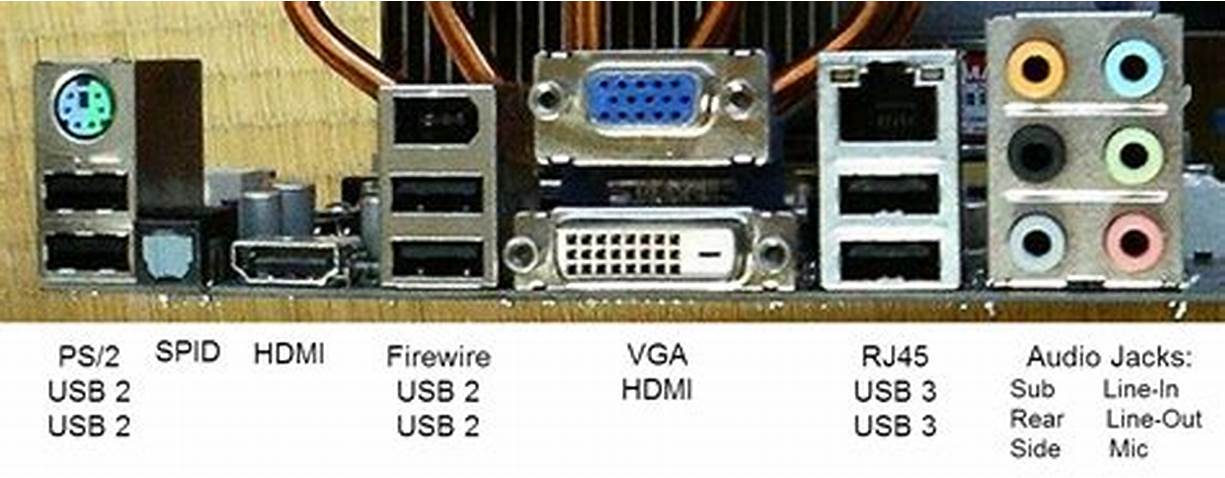Audio: (1098, 32, 1167, 102), (1003, 33, 1069, 102), (1102, 121, 1167, 186), (1102, 211, 1166, 276), (1005, 123, 1068, 185), (1010, 211, 1069, 274)
DVI: (555, 214, 757, 293)
Ethernet: (823, 56, 956, 149)
USB: (826, 165, 951, 219), (387, 165, 491, 227), (832, 235, 951, 283), (384, 231, 485, 282)
VGA: (573, 58, 722, 136)
